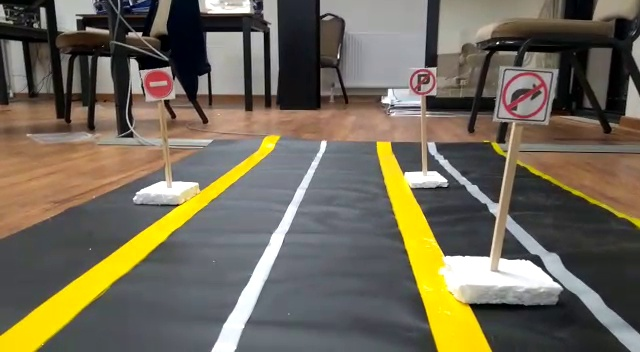girisi_olmayan_yol: (142, 69, 175, 100)
park_yapilmaz: (410, 66, 440, 96)
saga_donulmez: (500, 69, 554, 121)
